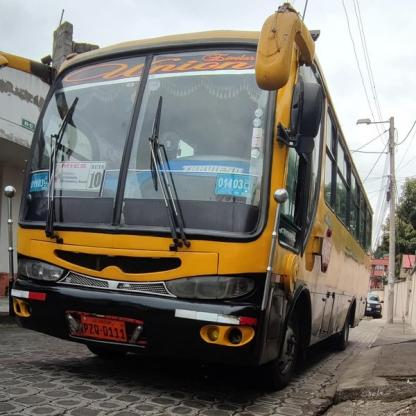Placa: (77, 313, 131, 350)
